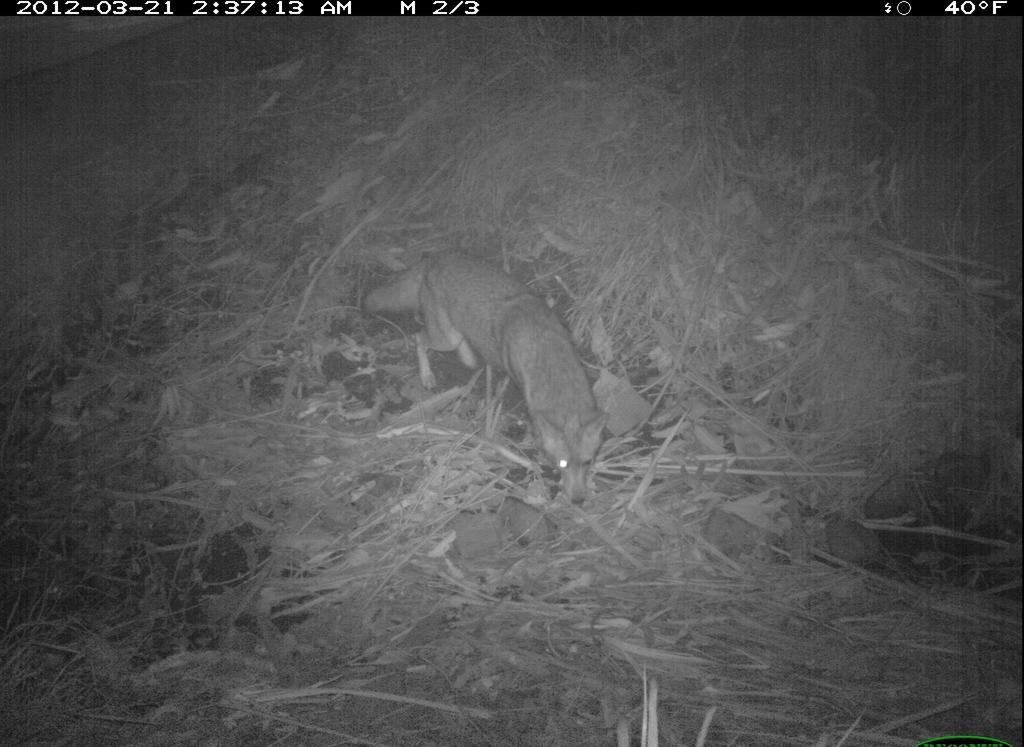coyote: (354, 250, 630, 519)
